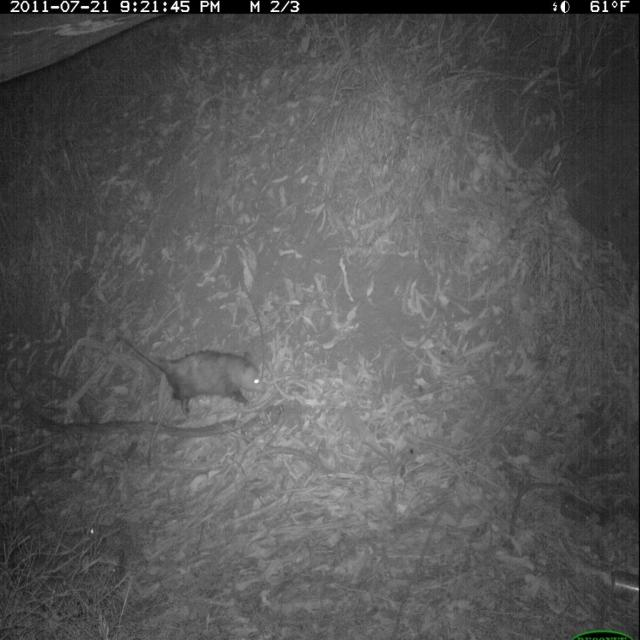opossum: (92, 319, 269, 436)
